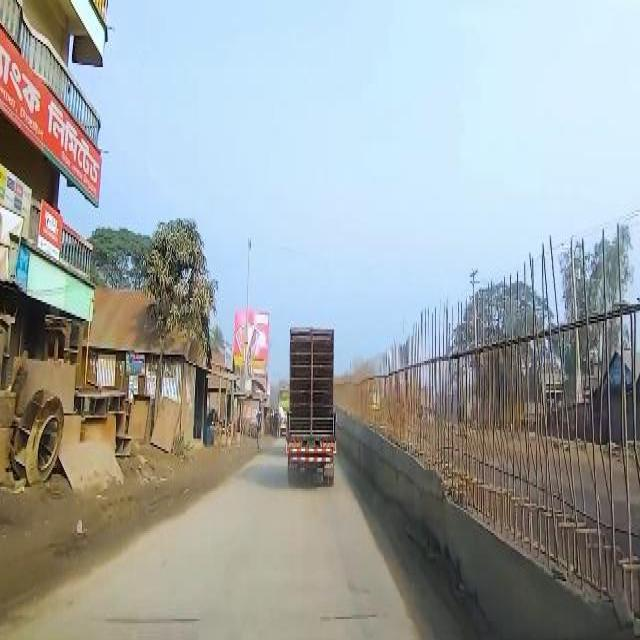bus: (277, 387, 287, 433)
pickup: (288, 327, 336, 485)
